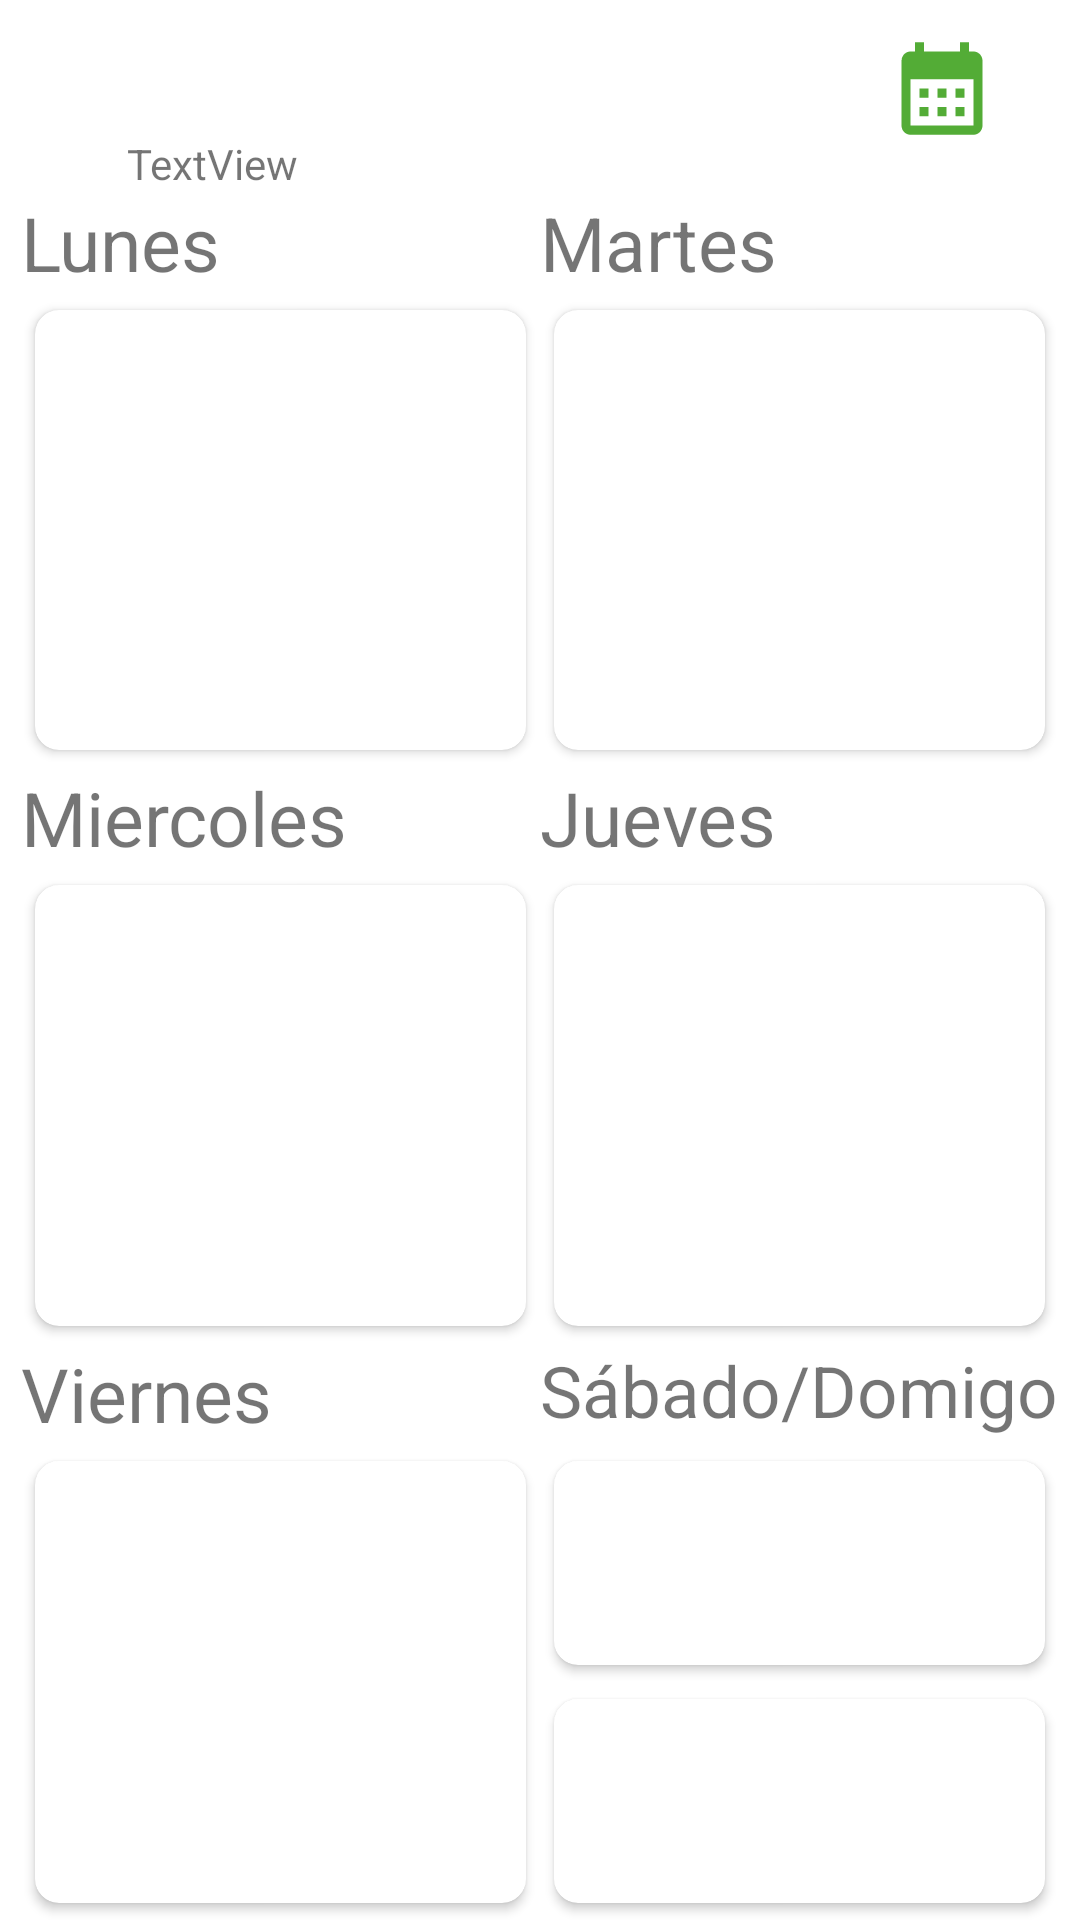

Locate icon controls on the screen. Image size 1080px×1920px, boxes as (x1, y1, x2, y2).
calendar month: (901, 42, 983, 135)
